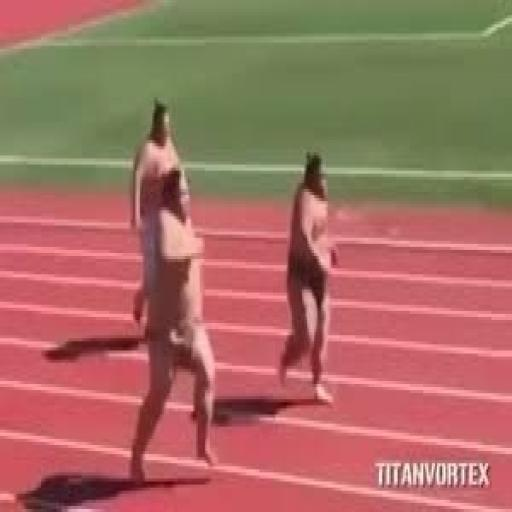running: (275, 146, 341, 408)
